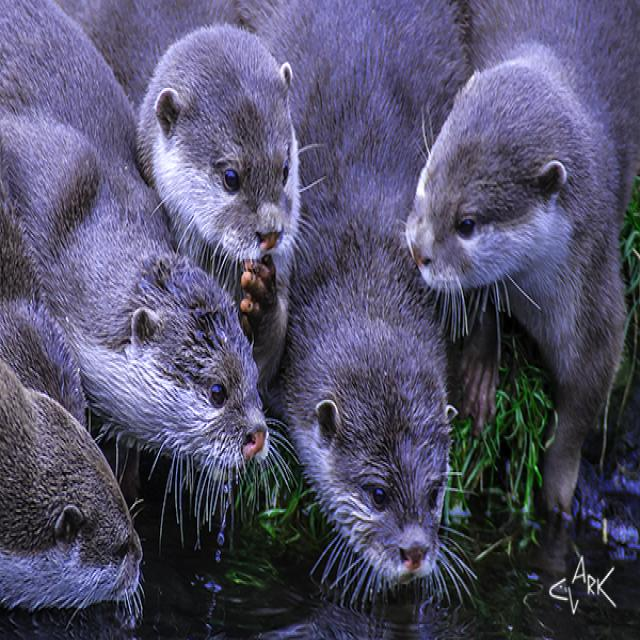otter: (1, 1, 268, 481), (292, 1, 452, 586), (409, 1, 627, 368), (69, 1, 294, 304), (1, 354, 142, 613)
